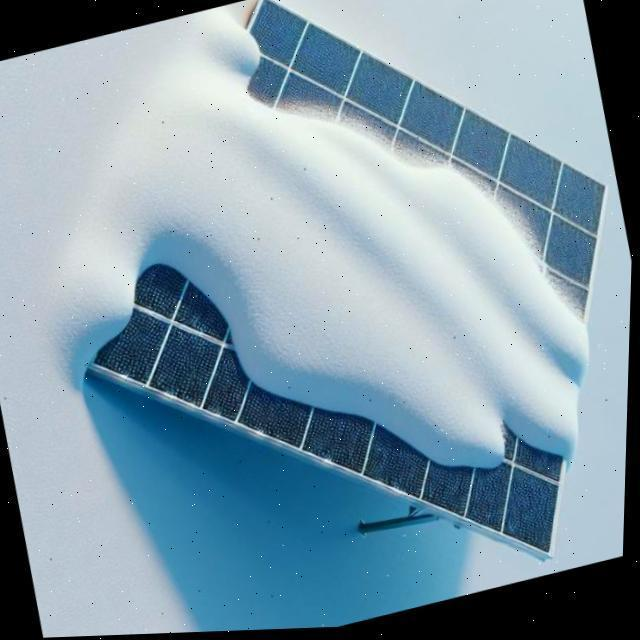Anomaly Solar Panel: (88, 0, 608, 558)
Snow: (130, 27, 589, 480)
